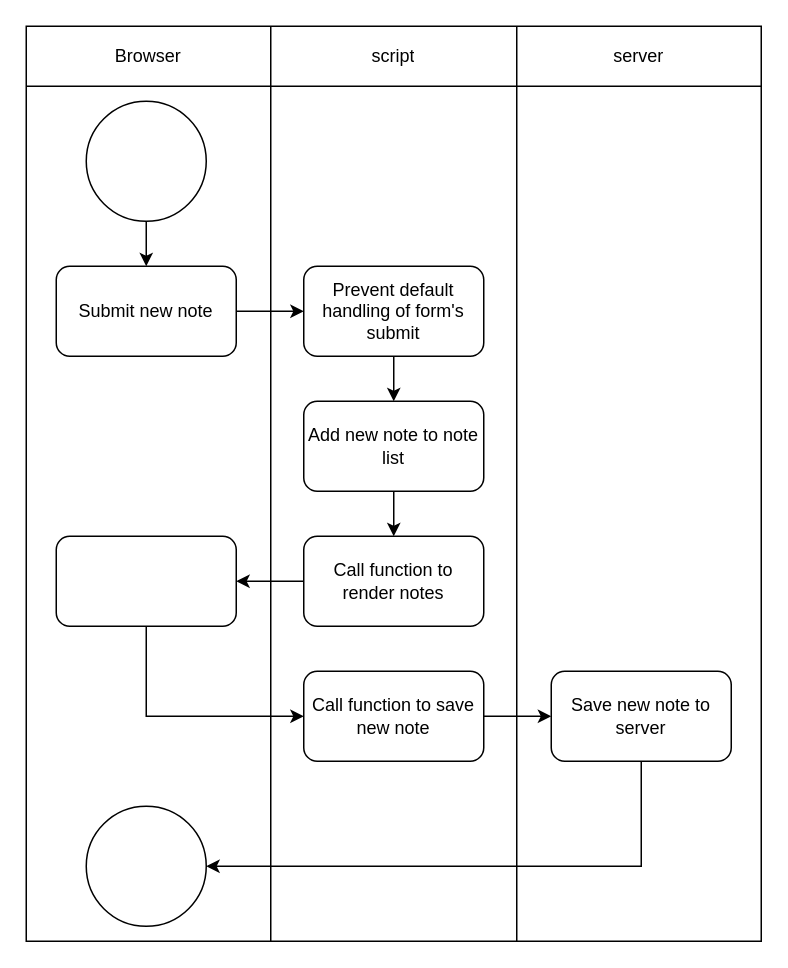
The diagram is 788 pixels wide and 968 high, and some of its shapes have lost their labels. Here are the shapes that lost their labels. From the top down, the centre of each, then its label:
At point 145,160: "Start".
At point 145,580: "Rerender notes".
At point 145,865: "End".
